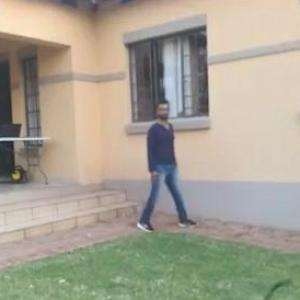follow: (141, 92, 185, 238)
